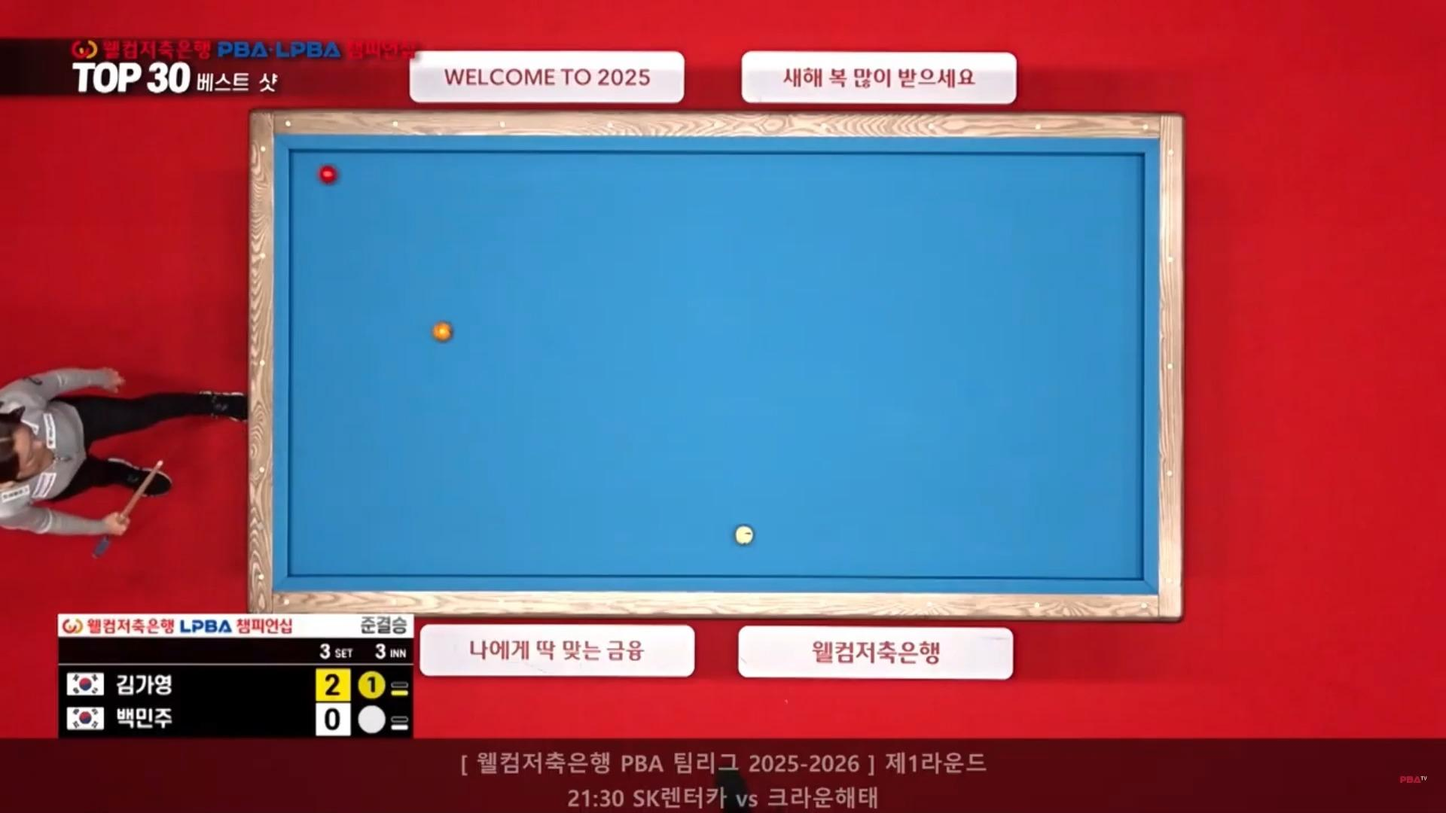Red: (316, 166, 340, 184)
White: (731, 526, 755, 546)
billiard-ball-Yellow: (431, 319, 452, 342)
